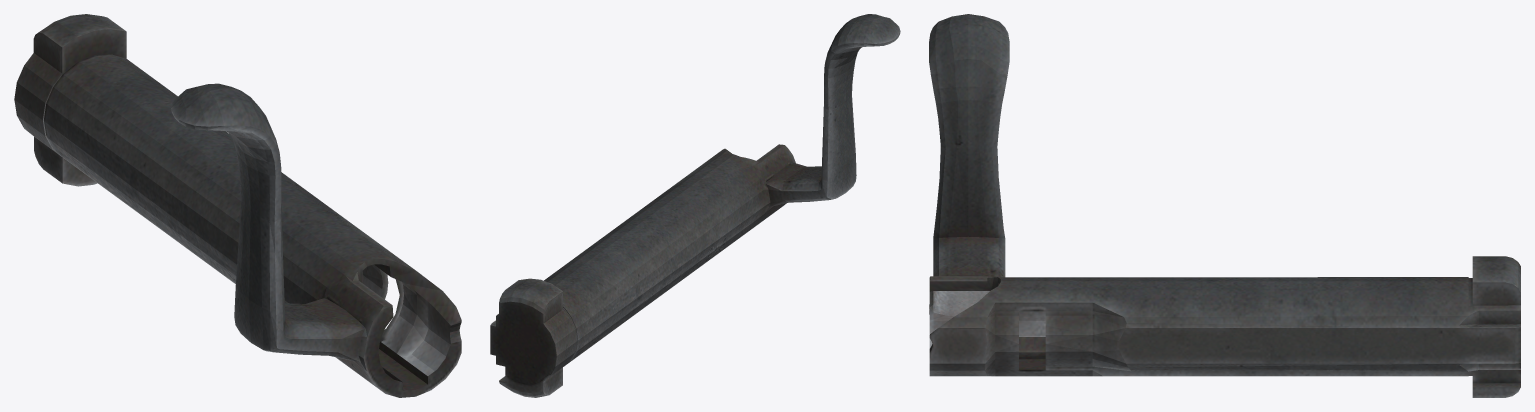
The picture shows the model from 3 angles, left to right: view 1: azimuth 30°, elevation 25°; view 2: azimuth 150°, elevation 25°; view 3: azimuth 270°, elevation 25°; orthographic projection. The views are drawn at different scales.
Visible parts, largest first — view 1: TW_5a38e6bac4a2826c6e06d79b_PZ_Import; view 2: TW_5a38e6bac4a2826c6e06d79b_PZ_Import; view 3: TW_5a38e6bac4a2826c6e06d79b_PZ_Import.
Boxes of the visible parts, x1,y1,x2,y2 form: TW_5a38e6bac4a2826c6e06d79b_PZ_Import: (14, 14, 461, 397); TW_5a38e6bac4a2826c6e06d79b_PZ_Import: (490, 14, 900, 397); TW_5a38e6bac4a2826c6e06d79b_PZ_Import: (929, 14, 1520, 397).
Size of the model in its own units: 0.0287 by 0.0671 by 0.0377.
Materials: 1 (1 with a texture image).
